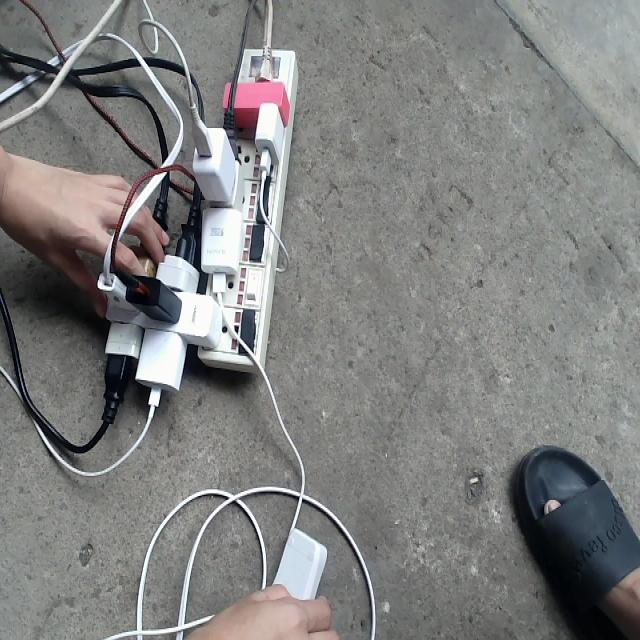-: (96, 36, 294, 393)
